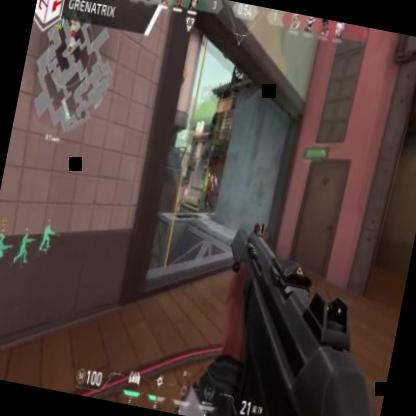enemy: (200, 168, 221, 216)
enemy_head: (211, 169, 216, 178)
